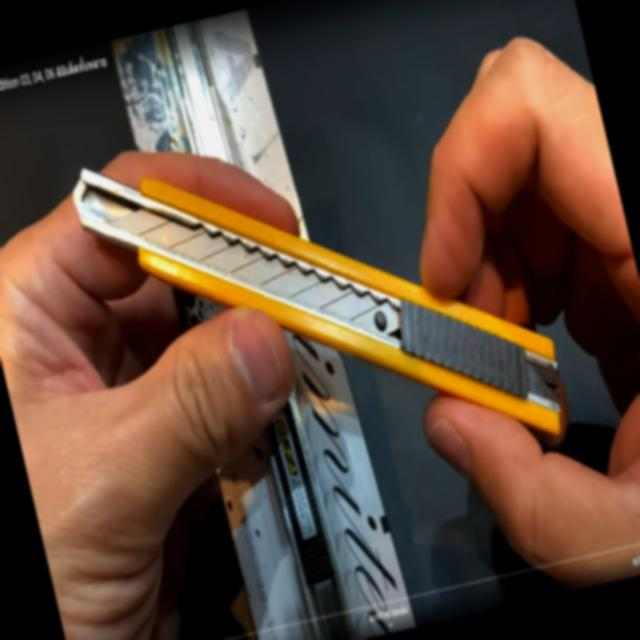cutter: (42, 28, 614, 616)
